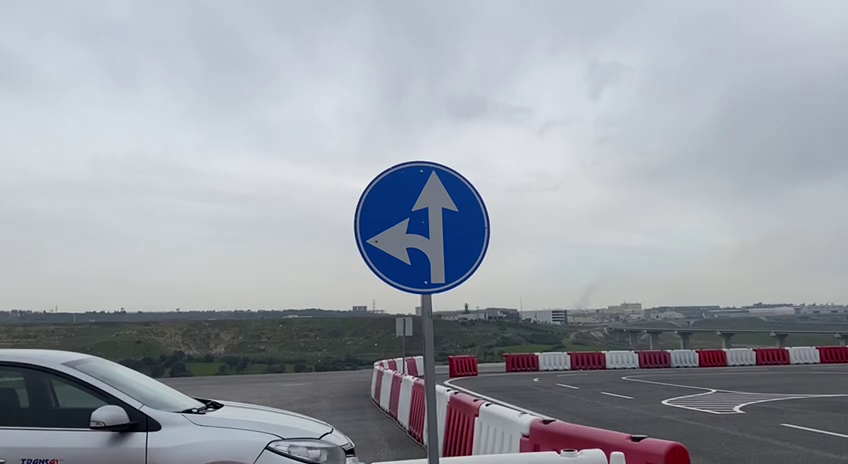forwardAndLeft: (350, 157, 494, 297)
